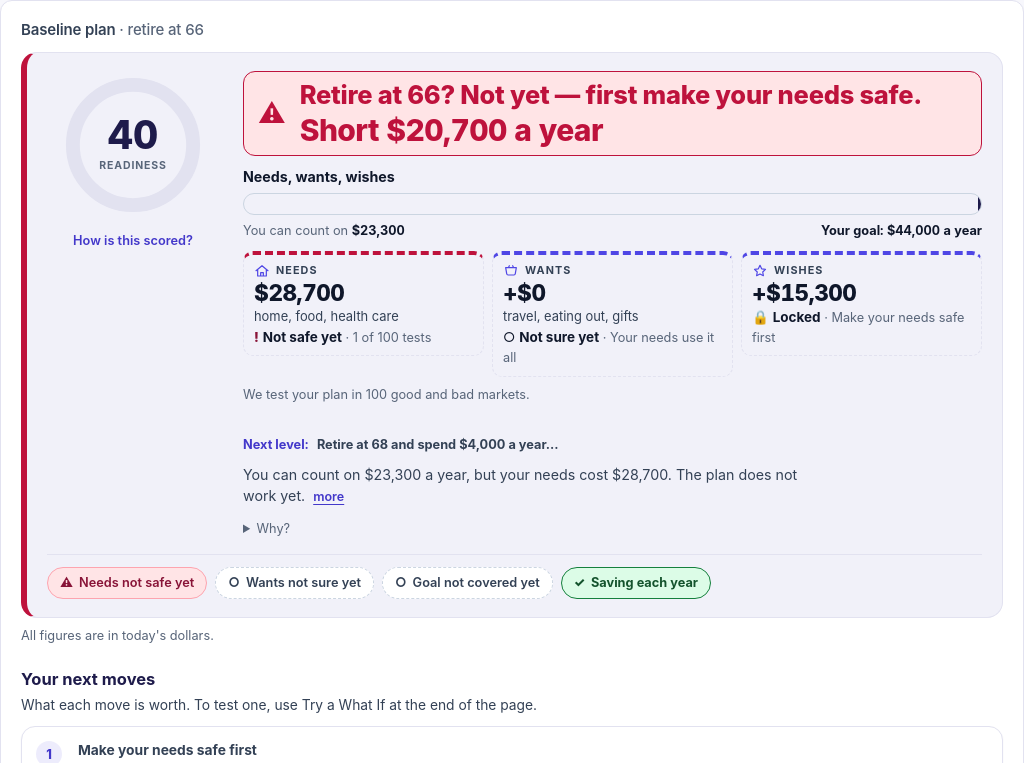
Scenario: The answer at a glance › a long headline shows its first sentence and a 'more' button; the whole text is one click away
Expected: the text with test id "plan-headline" shows "You can count on $23,300 a year, but your needs cost $28,700. The plan does not work yet.", x1=243 y1=466 x2=797 y2=504
Click the button with class "more-btn" below "Next level": point(329, 497) x1=309 y1=485 x2=348 y2=509
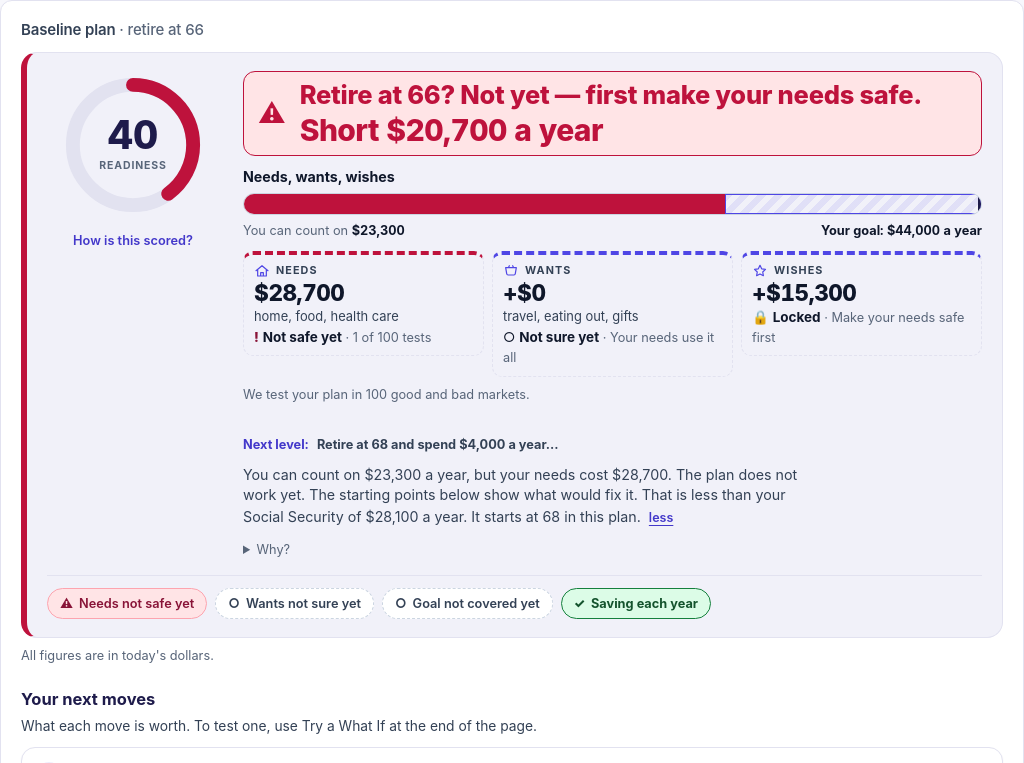
Expected: the text with test id "plan-headline" shows "You can count on $23,300 a year, but your needs cost $28,700. The plan does not work yet. The starting points below show what would fix it. That is less than yo", x1=243 y1=466 x2=797 y2=525
